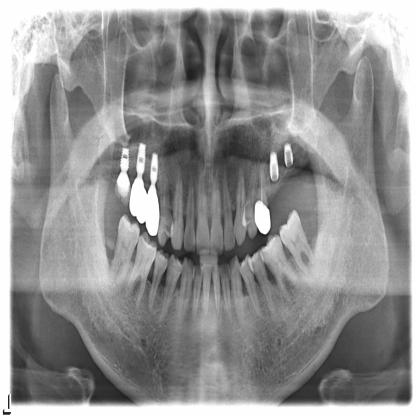Bicon: (132, 138, 145, 176), (147, 149, 159, 183), (268, 151, 281, 180), (117, 143, 130, 170), (284, 142, 297, 164)
